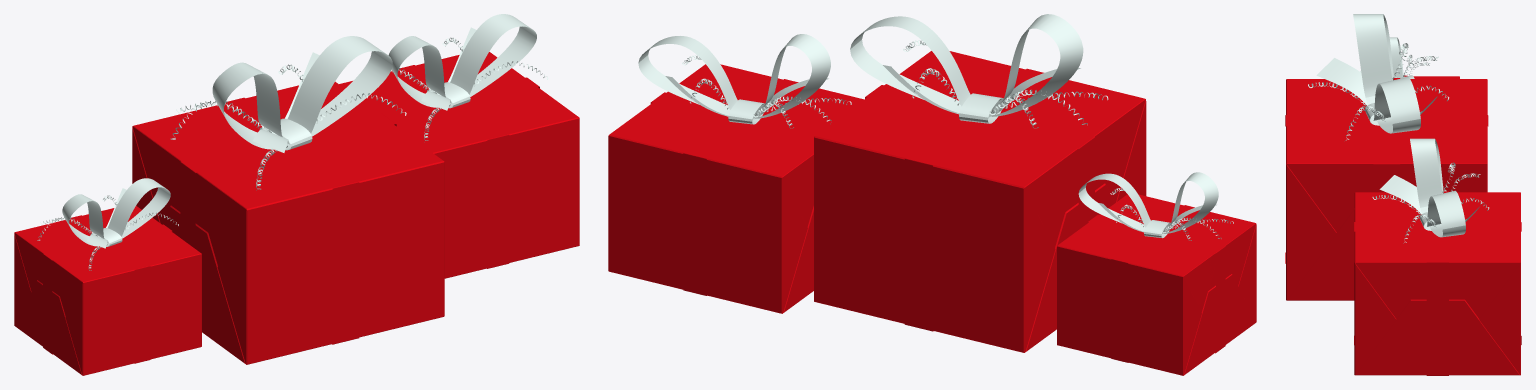
File: deneme.fbx
3 renders of one model, left to right at view 1: azimuth 30°, elevation 25°; view 2: azimuth 150°, elevation 25°; view 3: azimuth 270°, elevation 25°, orthographic. The views are drawn at different scales.
Visible parts, largest first — view 1: Present_2_3; view 2: Present_2_3; view 3: Present_2_3.
Boxes of the visible parts, <box> form: Present_2_3: <box>14,14,579,375</box>; Present_2_3: <box>608,14,1256,375</box>; Present_2_3: <box>1285,14,1521,375</box>.
Size of the model in its own units: 39.86 by 18.41 by 17.84.
